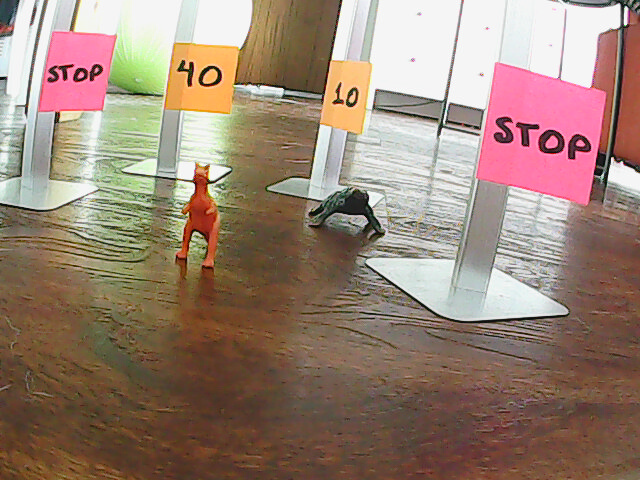10: (328, 64, 361, 132)
40: (169, 49, 233, 110)
dinosaur: (169, 156, 224, 276)
stop: (493, 84, 591, 186), (46, 43, 105, 106)
turtle: (299, 180, 393, 238)
